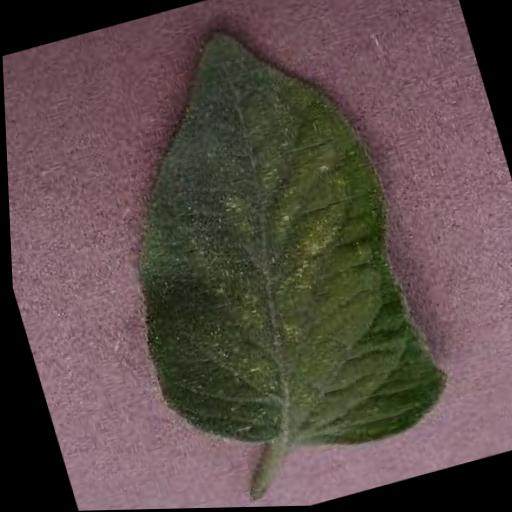Spider Mites: (60, 0, 458, 494)
